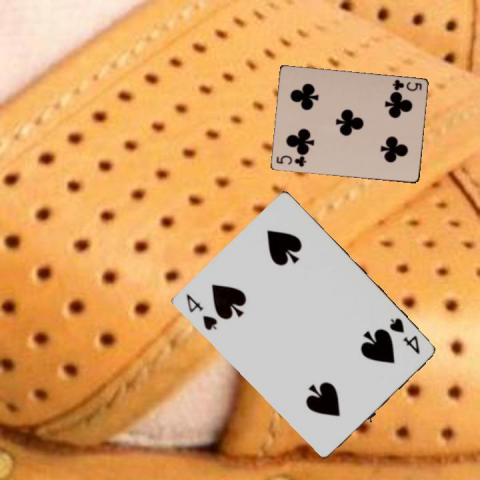4s: (184, 291, 220, 332), (387, 315, 422, 355)
5c: (274, 153, 308, 169), (389, 77, 423, 92)
